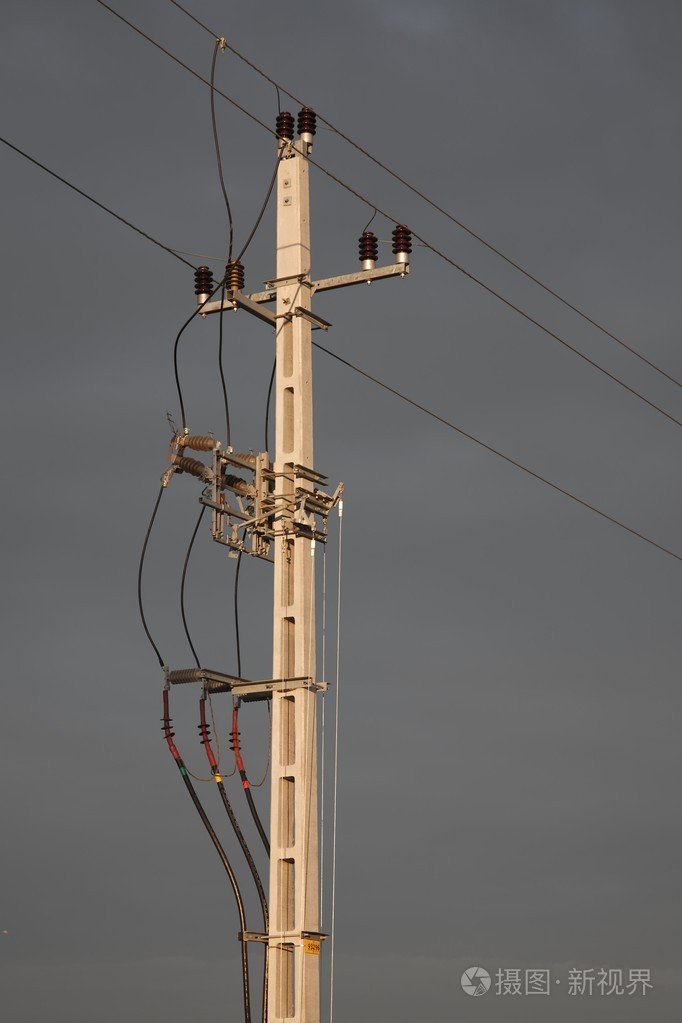insulator: (191, 266, 218, 298), (224, 261, 249, 294), (391, 226, 415, 258), (293, 109, 322, 134), (354, 233, 379, 261), (274, 113, 296, 137)
